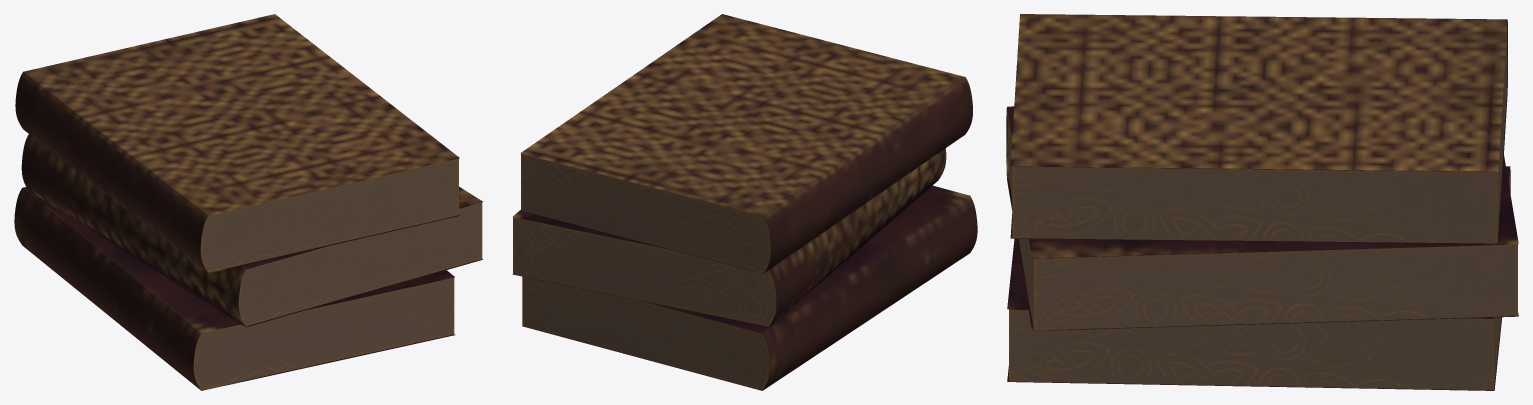
Rendered from SM_BookPile18.fbx.
The picture shows the model from 3 angles, left to right: view 1: azimuth 30°, elevation 25°; view 2: azimuth 150°, elevation 25°; view 3: azimuth 270°, elevation 25°; orthographic projection. The views are drawn at different scales.
Visible parts, largest first — view 1: SM_BookPile18_LOD0; view 2: SM_BookPile18_LOD0; view 3: SM_BookPile18_LOD0.
Boxes of the visible parts, left/top/right/bottom form: SM_BookPile18_LOD0: left=14, top=14, right=482, bottom=390; SM_BookPile18_LOD0: left=512, top=14, right=977, bottom=390; SM_BookPile18_LOD0: left=1006, top=14, right=1518, bottom=390.
Bounding box in the file's own units: 38.62 × 46.47 × 21.94.
1 material, 1 textured.
